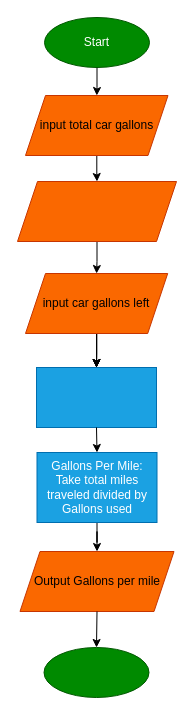
This 194x715 diagram has some shape labels left out. The box of each missing label's shape, as (x1, y1, x2, y2) in pixels:
Gallons use: Take total car gallons minus car gallons left: (36, 366, 156, 428)
input total miles traveled: (16, 180, 176, 242)
Stop: (43, 646, 149, 698)
